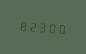eight: (18, 18, 27, 32)
three: (38, 19, 47, 34)
two: (28, 18, 37, 33)
zero: (48, 20, 57, 34), (58, 21, 67, 35)
